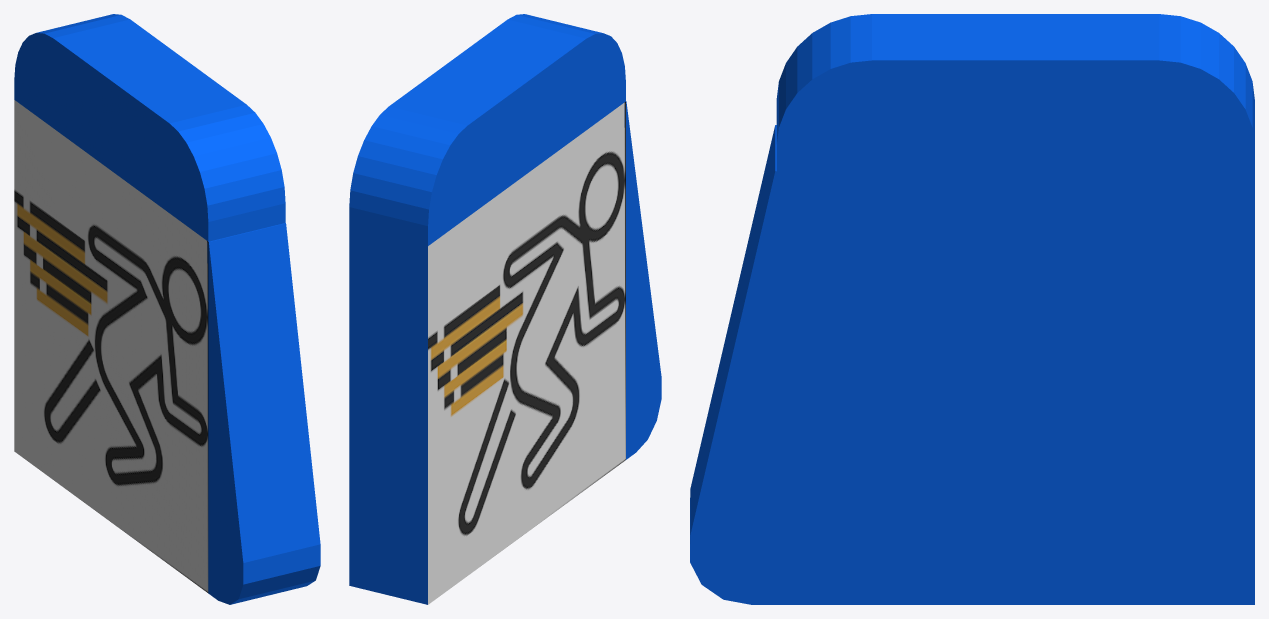
File: Powerup_speed.fbx
3 renders of one model, left to right at view 1: azimuth 30°, elevation 25°; view 2: azimuth 150°, elevation 25°; view 3: azimuth 270°, elevation 25°, orthographic. The views are drawn at different scales.
Visible parts, largest first — view 1: Cube.003; view 2: Cube.003; view 3: Cube.003.
Boxes of the visible parts, x1=… form: Cube.003: x1=14, y1=14, x2=320, y2=604; Cube.003: x1=349, y1=14, x2=661, y2=604; Cube.003: x1=690, y1=14, x2=1254, y2=604.
Size of the model in its own units: 45.96 by 251 by 236.
Materials: 2 (1 with a texture image).
